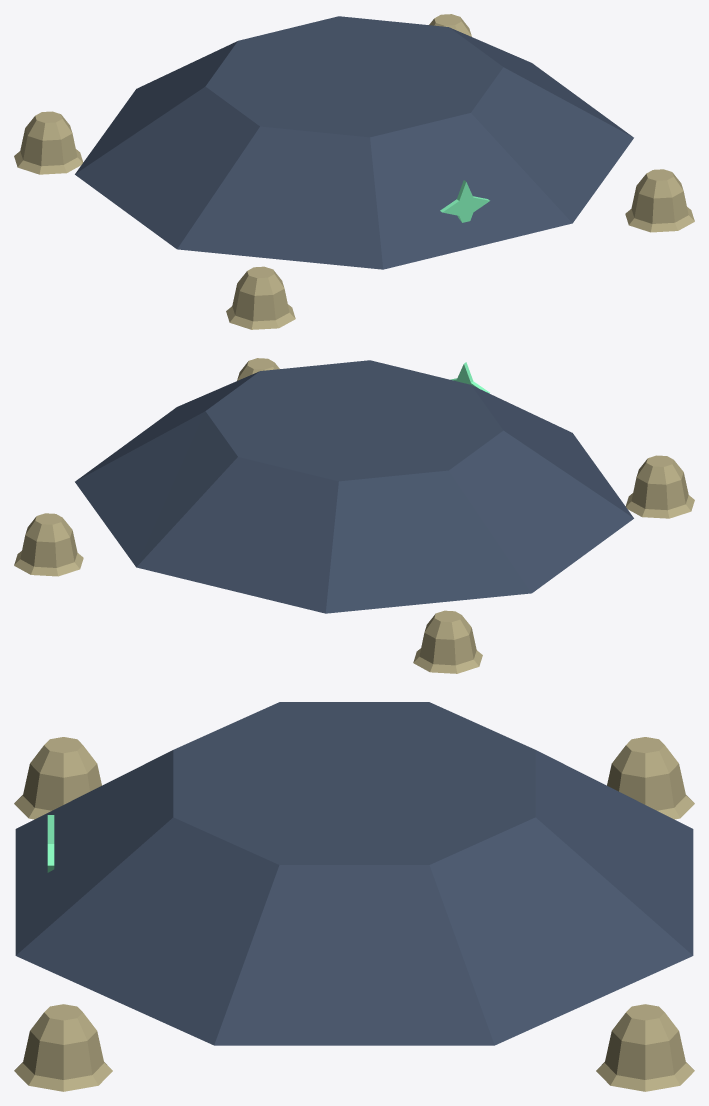
File: suspended_bell_eaves.obj
3 renders of one model, top to bottom at view 1: azimuth 30°, elevation 25°; view 2: azimuth 150°, elevation 25°; view 3: azimuth 270°, elevation 25°, orthographic. The views are drawn at different scales.
Visible parts, largest first — view 1: bell_eaves, eave_bell_1, eave_bell_2, eave_bell_0, eave_glint, eave_bell_3; view 2: bell_eaves, eave_bell_3, eave_bell_0, eave_bell_2, eave_bell_1; view 3: bell_eaves, eave_bell_1, eave_bell_3, eave_bell_0, eave_bell_2.
Part boxes in pixels (box(x1,y1,x2,y2)): bell_eaves: box(75, 16, 633, 269); eave_bell_1: box(625, 169, 694, 232); eave_bell_2: box(14, 111, 83, 174); eave_bell_0: box(226, 266, 295, 329); eave_glint: box(443, 182, 489, 222); eave_bell_3: box(429, 14, 471, 36); bell_eaves: box(75, 360, 633, 613); eave_bell_3: box(14, 513, 83, 576); eave_bell_0: box(625, 455, 694, 518); eave_bell_2: box(413, 610, 482, 673); eave_bell_1: box(237, 358, 279, 380); bell_eaves: box(15, 702, 693, 1045); eave_bell_1: box(14, 1004, 112, 1091); eave_bell_3: box(596, 1004, 694, 1091); eave_bell_0: box(14, 737, 101, 819); eave_bell_2: box(607, 737, 694, 819).
Size of the model in its own units: 1.16 by 0.299 by 1.08.
